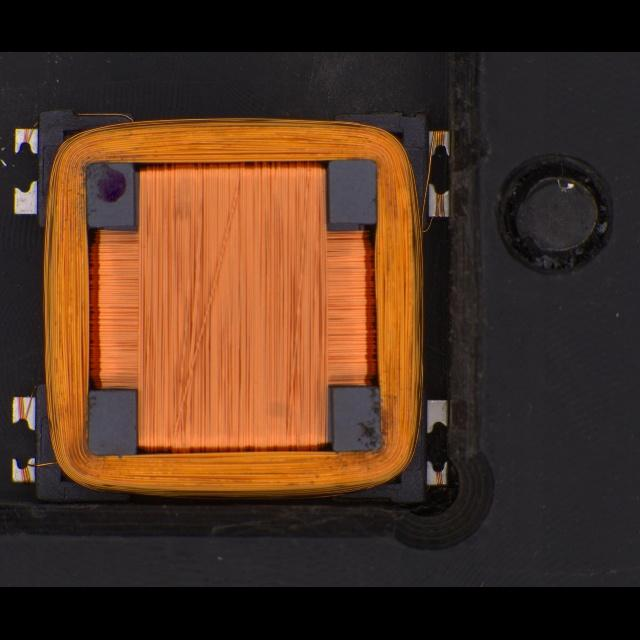Winding_Z: (40, 113, 427, 499)
